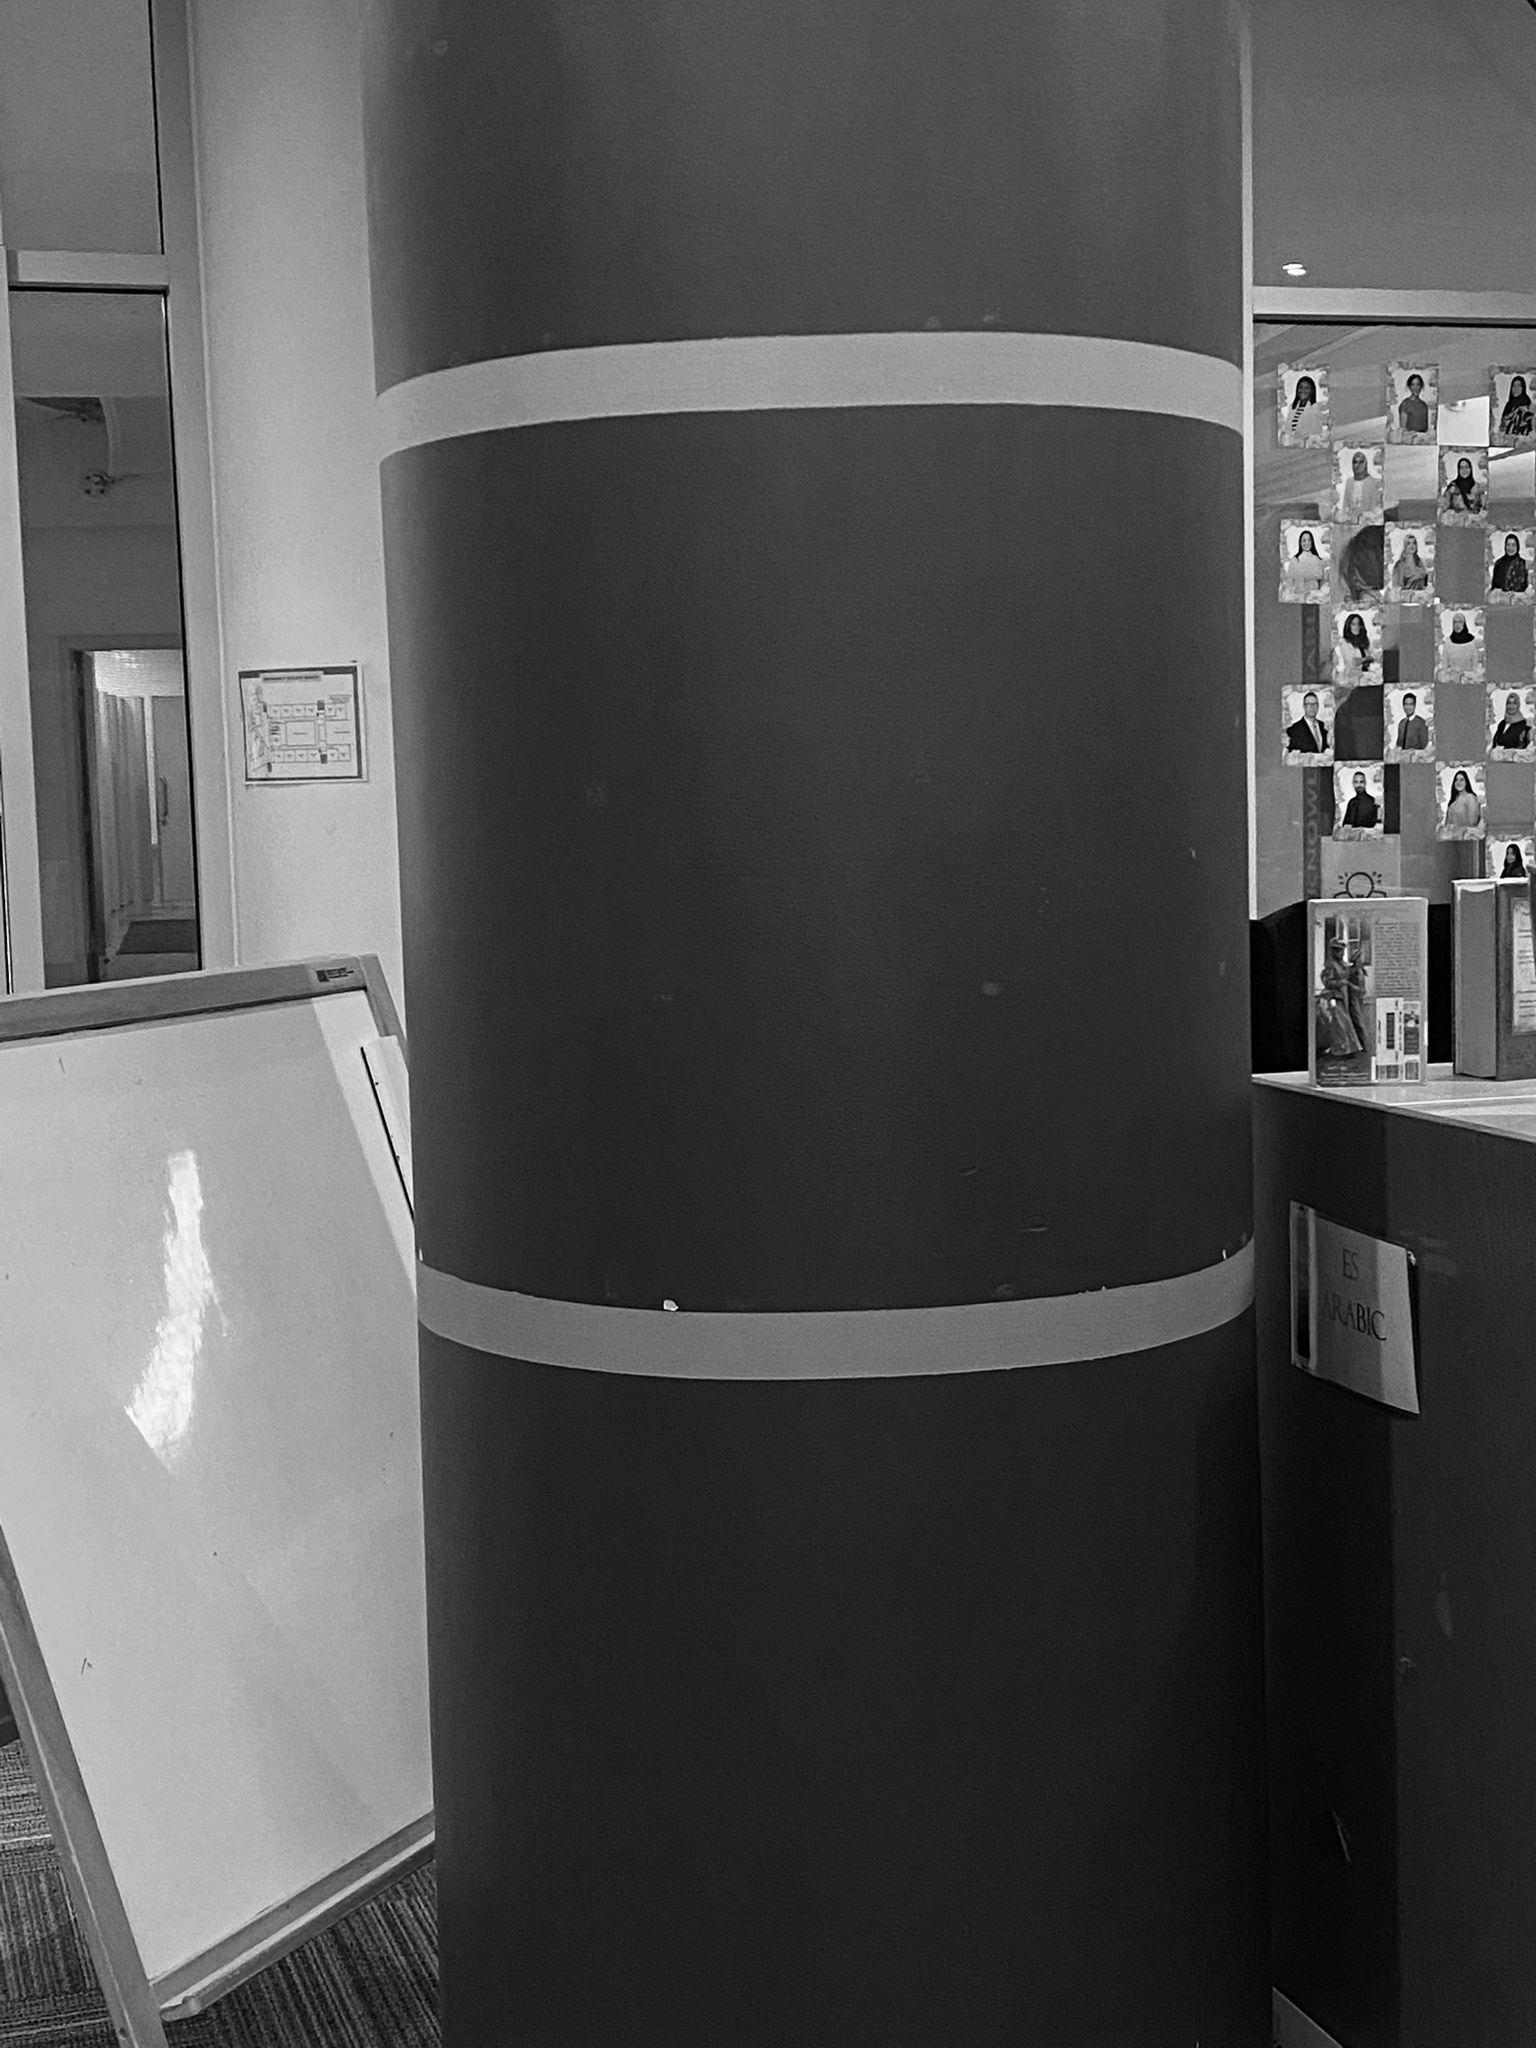Pillar: (363, 0, 1268, 2046)
Wall: (155, 0, 402, 1001)
